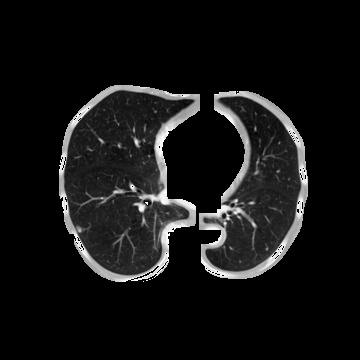PN: (76, 226, 82, 232)
